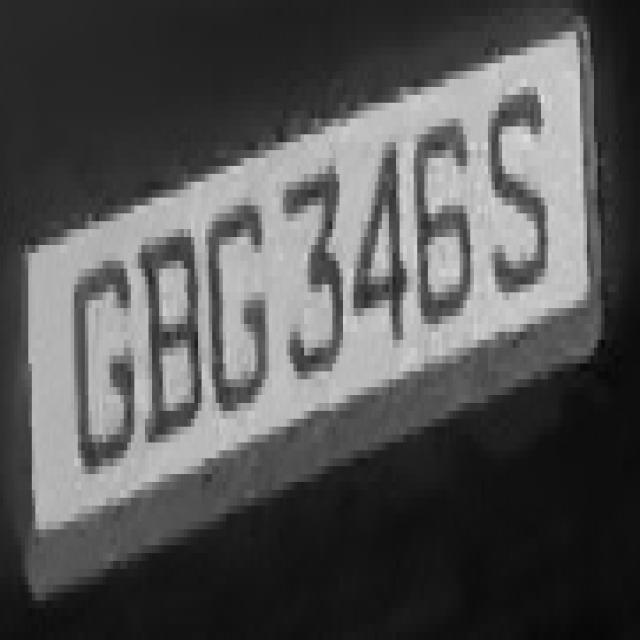3: (276, 142, 350, 387)
4: (336, 118, 410, 372)
6: (403, 95, 477, 332)
B: (134, 221, 205, 466)
G: (56, 245, 134, 466), (202, 190, 272, 434)
S: (474, 63, 552, 340)
